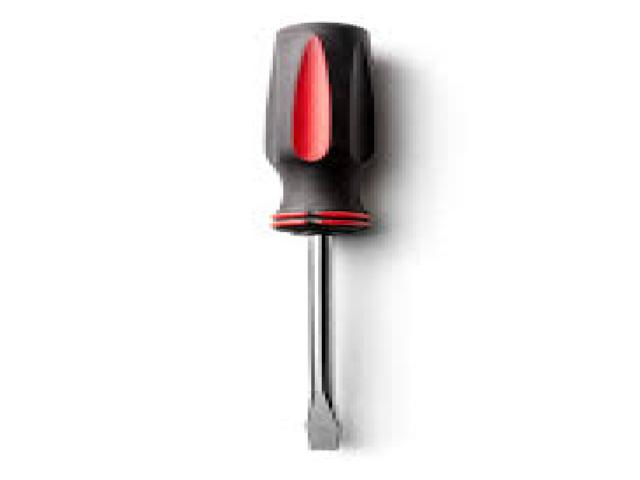Screwdriver: (267, 22, 374, 450)
